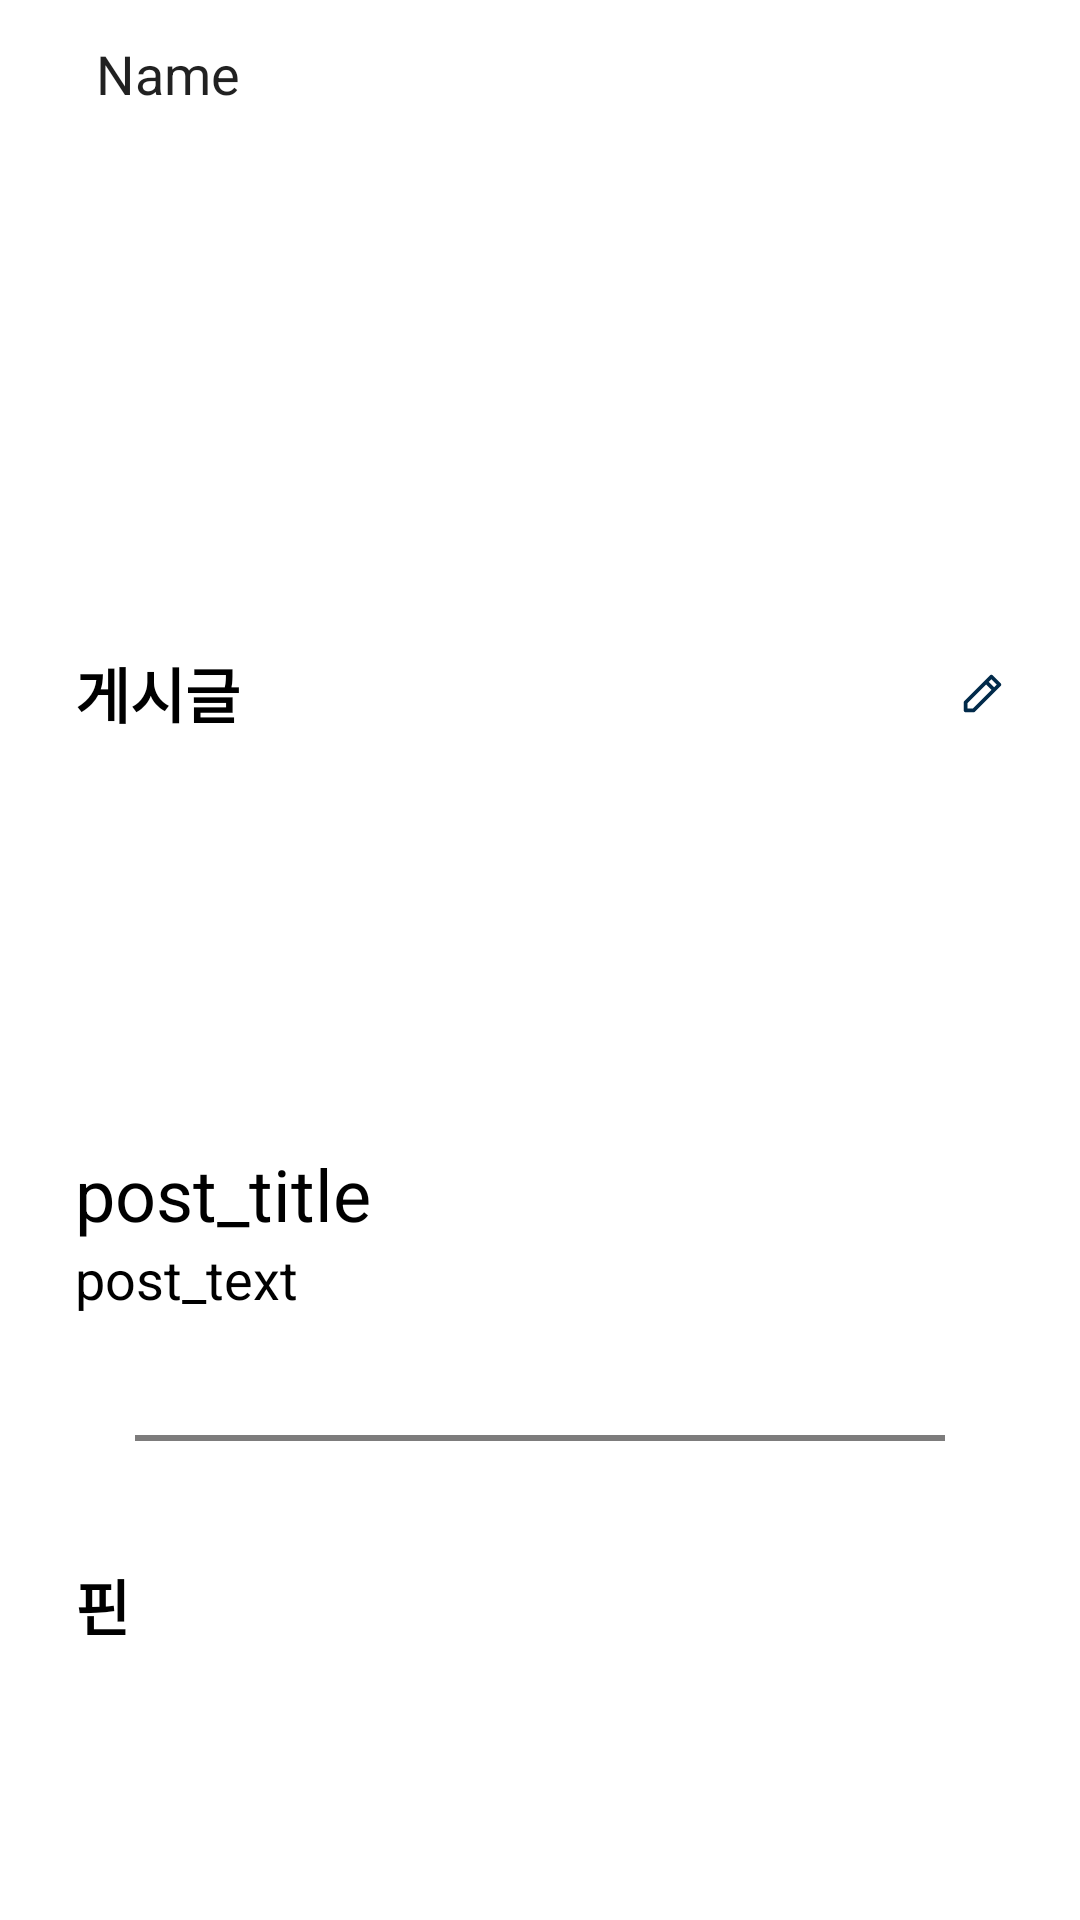

Locate icon controls on the screen. Image size 1080 × 1920, boxes as BBox(x1, y1, x2, y2).
post pencil: BBox(963, 674, 1002, 713)
